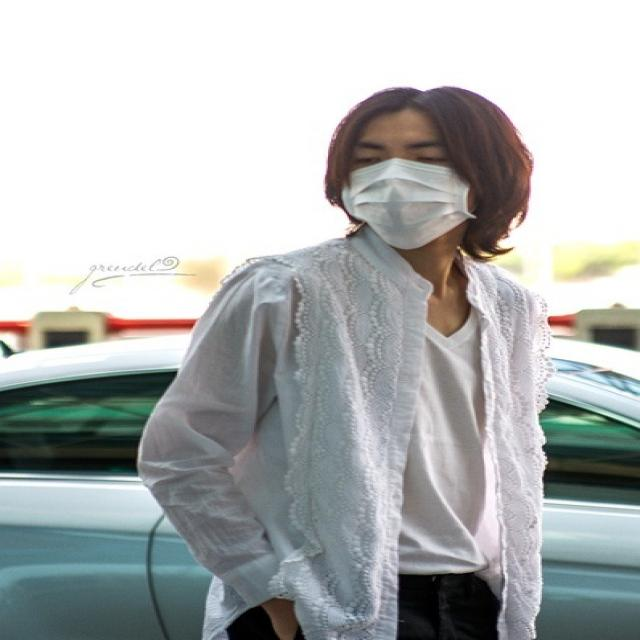mask: (346, 105, 462, 240)
